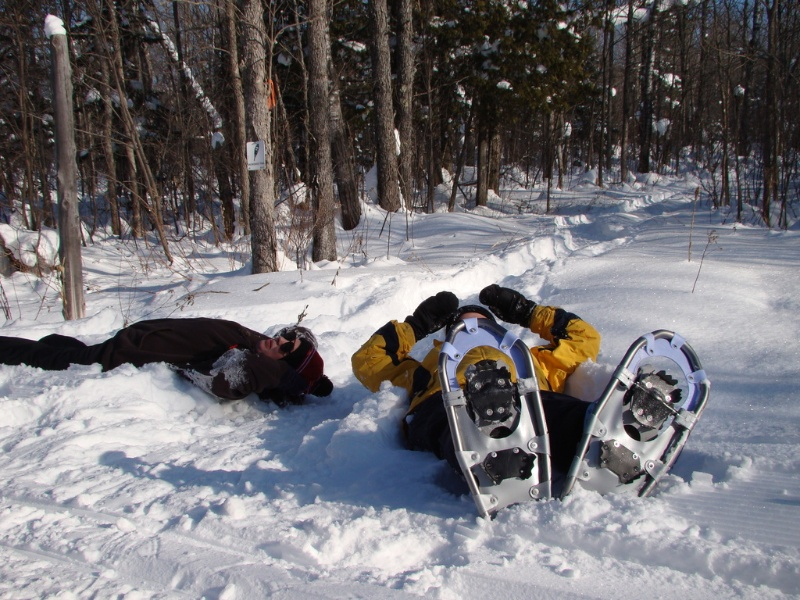person: (406, 265, 594, 497), (24, 316, 334, 404)
